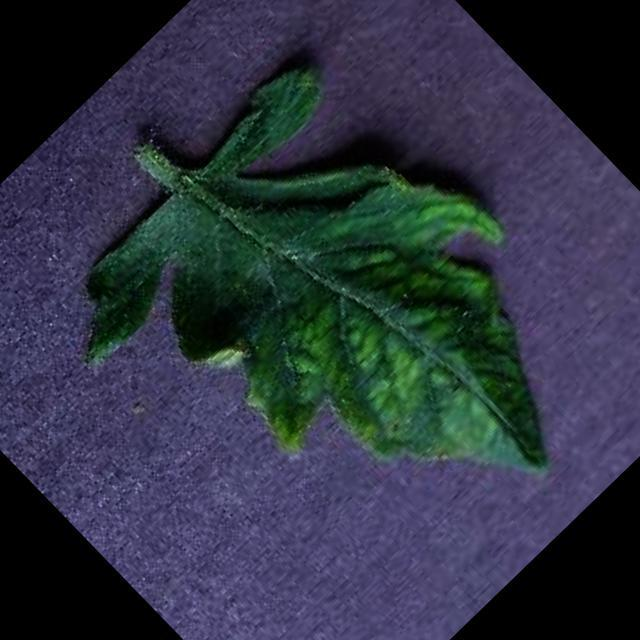Tomato mosaic virus leaf: (25, 28, 640, 640)
